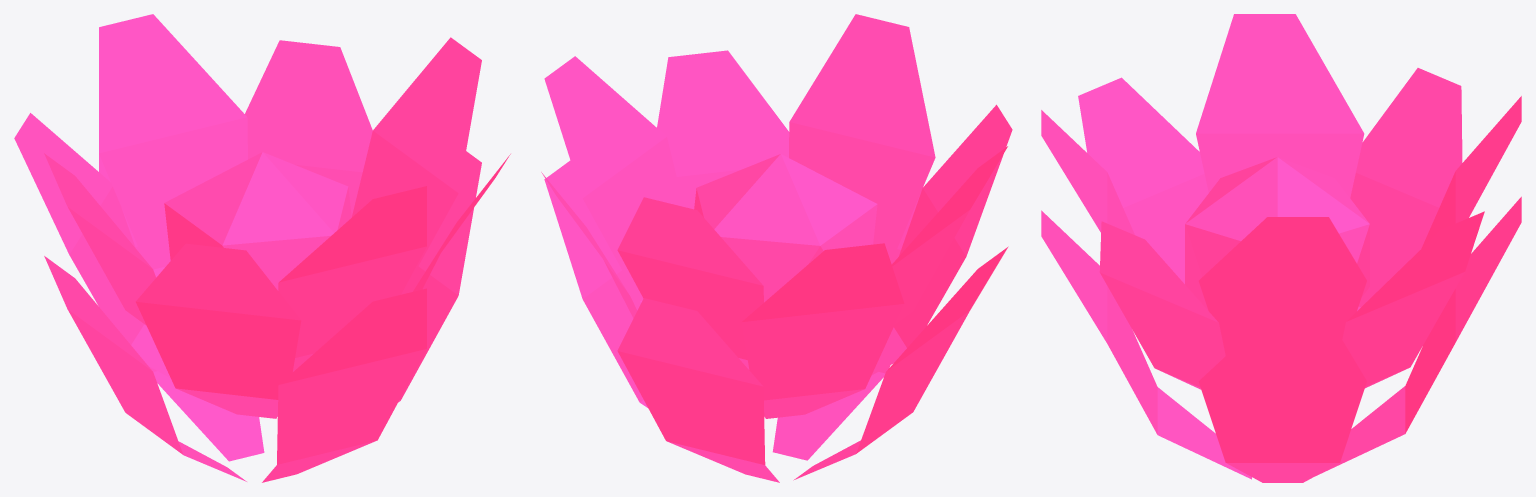
File: plant_6.gltf
3 views of the same model, side by side, from view 1: azimuth 30°, elevation 25°; view 2: azimuth 150°, elevation 25°; view 3: azimuth 270°, elevation 25° (orthographic).
Visible parts, largest first — view 1: Plant_6; view 2: Plant_6; view 3: Plant_6.
Boxes of the visible parts, x1,y1,x2,y2 form: Plant_6: [14, 14, 510, 482]; Plant_6: [541, 14, 1012, 482]; Plant_6: [1041, 14, 1521, 482].
Size of the model in its own units: 84.03 by 68.49 by 84.03.
